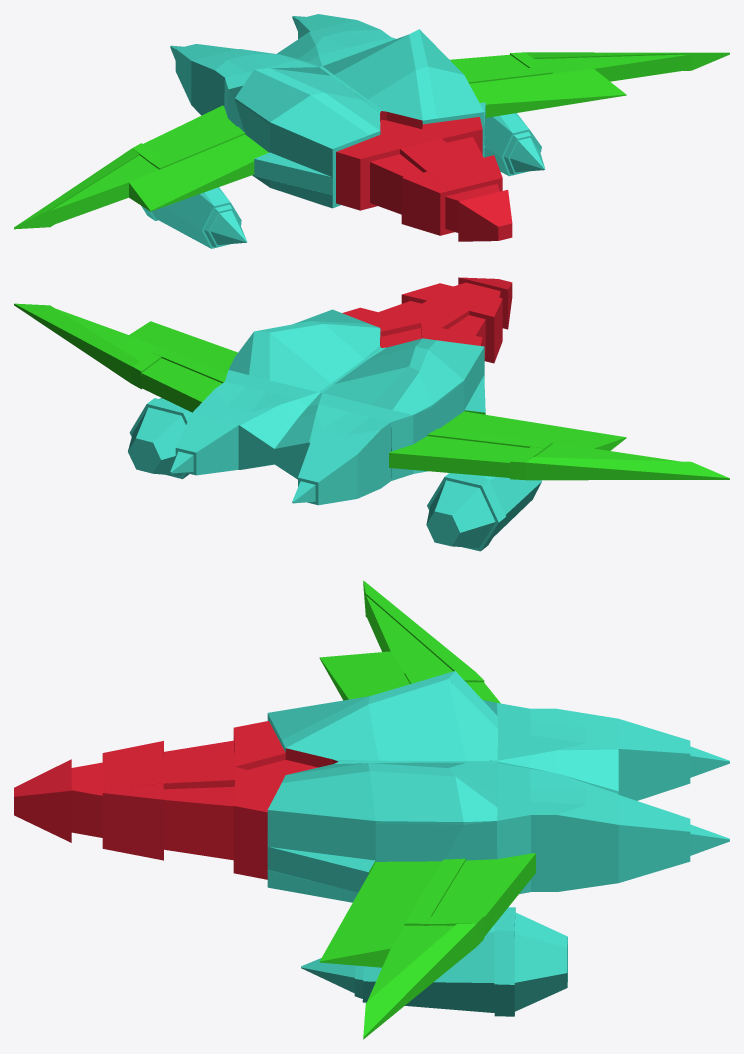
The model's file is JupiterModelo.fbx.
3 renders of one model, top to bottom at view 1: azimuth 30°, elevation 25°; view 2: azimuth 150°, elevation 25°; view 3: azimuth 270°, elevation 25°, orthographic. The views are drawn at different scales.
Visible parts, largest first — view 1: Modelo_Jupiter; view 2: Modelo_Jupiter; view 3: Modelo_Jupiter.
Boxes of the visible parts, bbox=[...] form: Modelo_Jupiter: bbox=[14, 14, 729, 248]; Modelo_Jupiter: bbox=[14, 277, 729, 551]; Modelo_Jupiter: bbox=[14, 580, 729, 1039].
Bounding box in the file's own units: 709 × 135 × 469.
